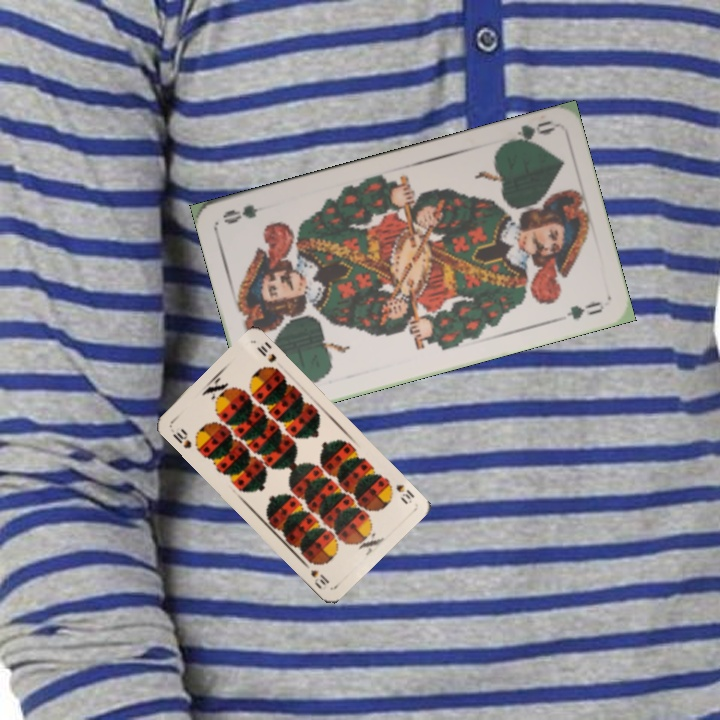GO: (499, 116, 557, 150)
S10: (383, 476, 417, 507), (168, 425, 194, 451)
